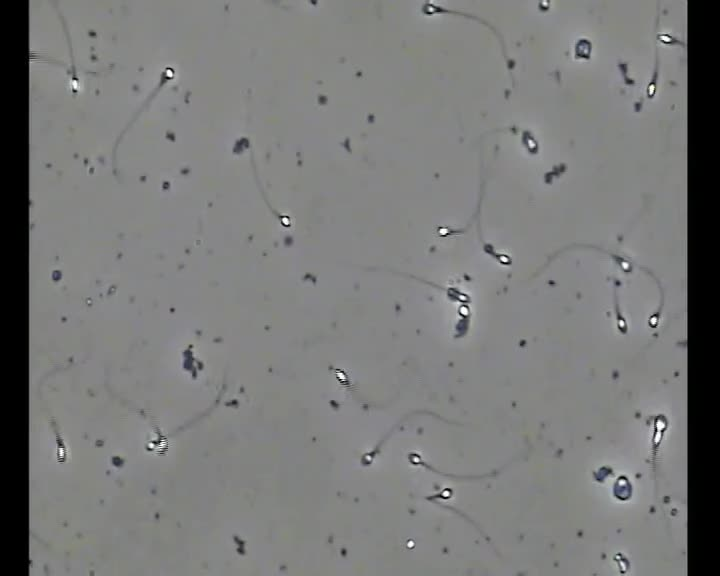spermhead: (612, 475, 632, 500), (521, 130, 538, 153), (574, 38, 591, 60), (53, 436, 67, 460), (613, 553, 629, 574), (658, 33, 681, 47), (593, 465, 613, 481), (455, 316, 469, 337), (152, 425, 166, 446), (652, 412, 665, 433), (422, 0, 440, 15), (335, 373, 349, 392), (645, 77, 656, 98), (617, 257, 632, 272), (361, 451, 376, 465), (446, 286, 460, 301), (616, 315, 627, 333), (161, 67, 175, 81), (495, 253, 511, 265), (408, 452, 422, 465), (457, 304, 470, 318), (436, 227, 451, 239), (437, 487, 452, 499), (648, 310, 658, 327), (70, 75, 79, 93), (279, 214, 291, 227), (482, 243, 495, 255), (146, 439, 158, 451), (458, 292, 470, 303), (538, 0, 549, 11), (405, 539, 415, 549), (29, 55, 35, 64)
